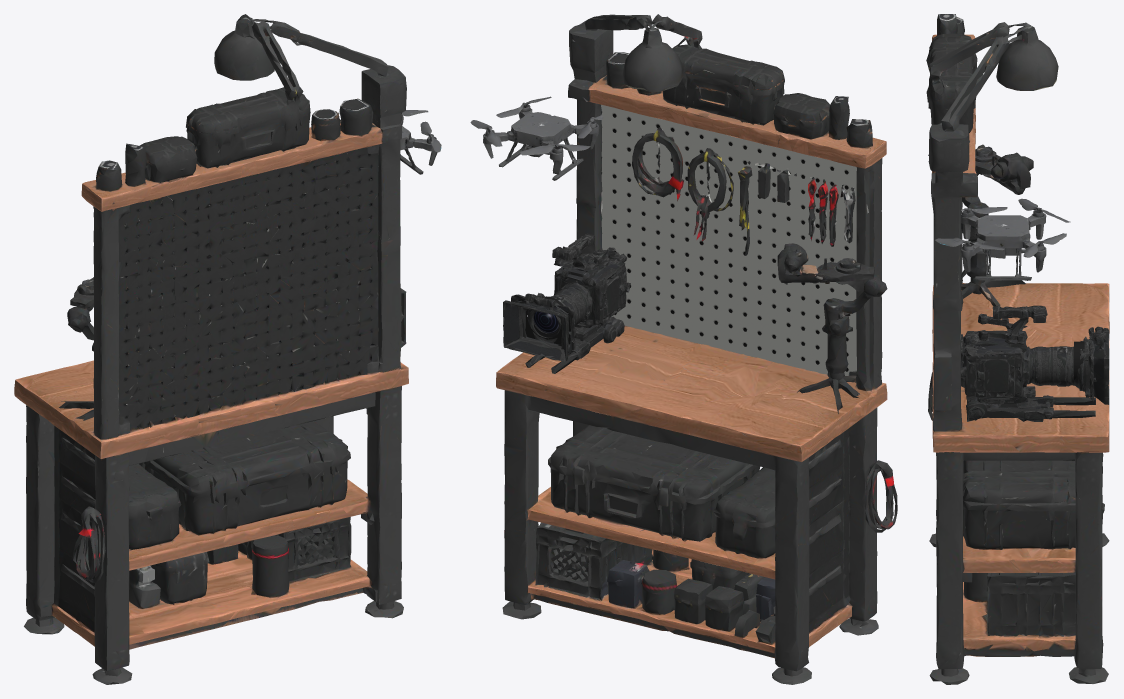
Rendered from WorkbenchRemesh.obj.
3 renders of one model, left to right at view 1: azimuth 30°, elevation 25°; view 2: azimuth 150°, elevation 25°; view 3: azimuth 270°, elevation 25°, orthographic. The views are drawn at different scales.
Visible parts, largest first — view 1: Bench, Gimbal, Drone; view 2: Bench, Pegboard, CinemaCamera, Gimbal, Drone, CinemaLens; view 3: Bench, CinemaCamera, Drone, Gimbal.
Part boxes in pixels (x1,y1,x2,y2): Bench: [14, 14, 408, 684]; Gimbal: [59, 277, 153, 434]; Drone: [338, 110, 441, 174]; Bench: [496, 14, 897, 684]; Pegboard: [601, 105, 856, 375]; CinemaCamera: [503, 233, 630, 373]; Gimbal: [777, 243, 887, 413]; Drone: [470, 96, 603, 180]; CinemaLens: [518, 296, 571, 344]; Bench: [926, 14, 1109, 684]; CinemaCamera: [960, 305, 1109, 421]; Drone: [935, 198, 1070, 280]; Gimbal: [961, 144, 1033, 306].
Bounding box in the file's own units: 120 × 175 × 48.09.
Materials: 6 (6 with a texture image).
